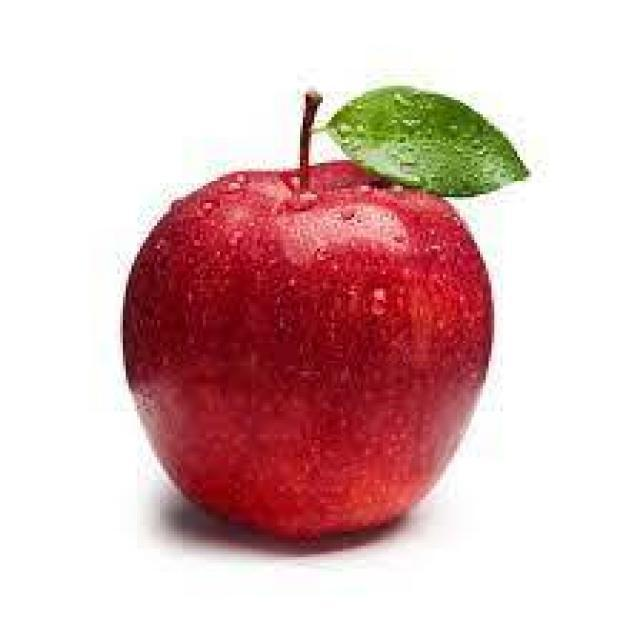apple: (123, 84, 531, 540)
